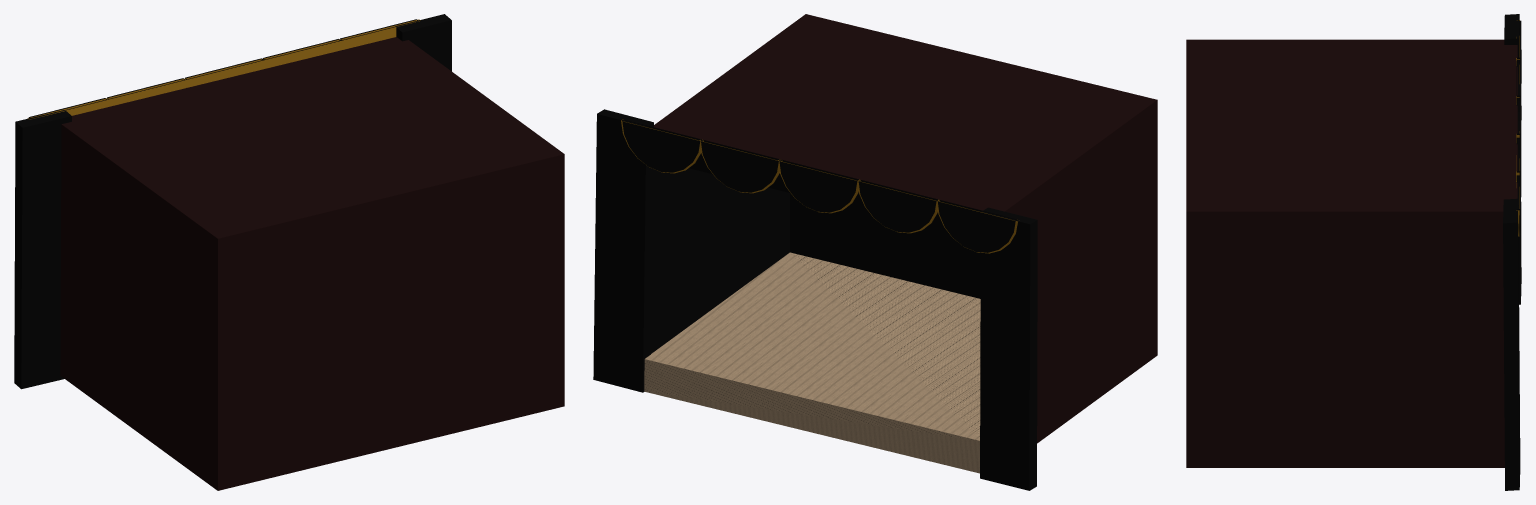
File: theaterCurtains.obj
3 renders of one model, left to right at view 1: azimuth 30°, elevation 25°; view 2: azimuth 150°, elevation 25°; view 3: azimuth 270°, elevation 25°, orthographic.
Parts seen in each view (by area): view 1: polySurface4; view 2: polySurface4; view 3: polySurface4.
Part boxes in pixels (x1,y1,x2,y2): polySurface4: (14, 14, 564, 490); polySurface4: (593, 14, 1157, 490); polySurface4: (1186, 14, 1521, 490).
Bounding box in the file's own units: 165 × 97.56 × 109.
8 materials, 2 textured.
